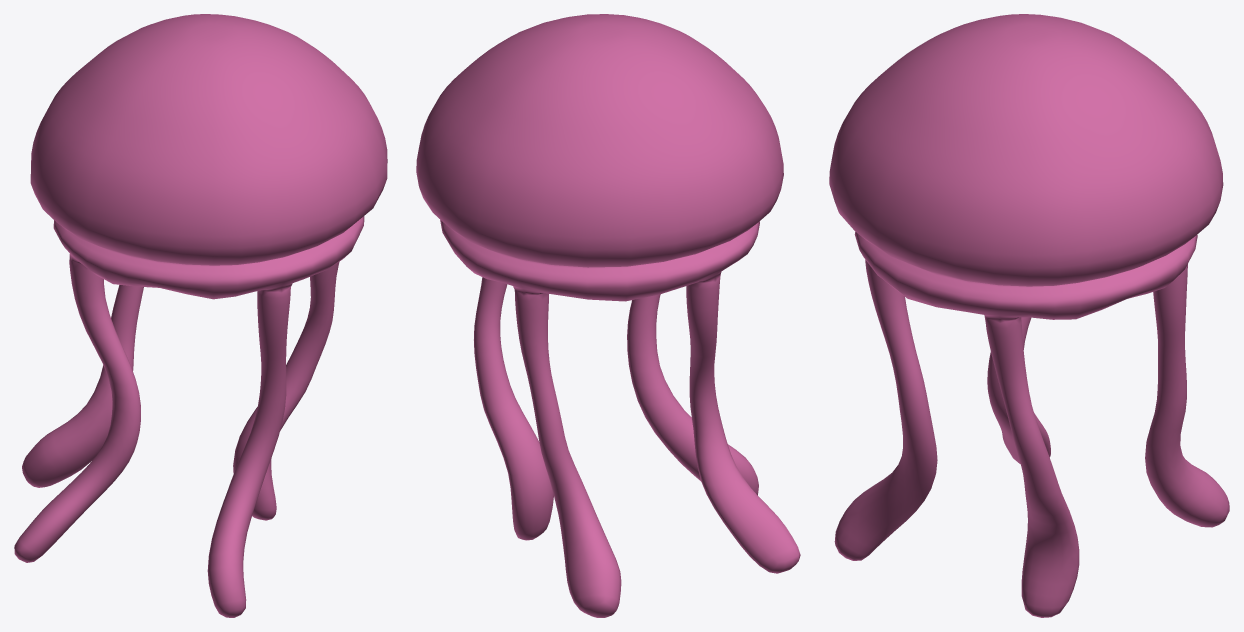
File: Jellyfish.dae
3 views of the same model, side by side, from view 1: azimuth 30°, elevation 25°; view 2: azimuth 150°, elevation 25°; view 3: azimuth 270°, elevation 25° (orthographic). The views are drawn at different scales.
Visible parts, largest first — view 1: Sphere; view 2: Sphere; view 3: Sphere.
Part boxes in pixels (left/top/right/bottom): Sphere: left=14, top=14, right=387, bottom=617; Sphere: left=416, top=14, right=800, bottom=617; Sphere: left=829, top=14, right=1229, bottom=617.
Bounding box in the file's own units: 2.53 × 3.52 × 2.29.
